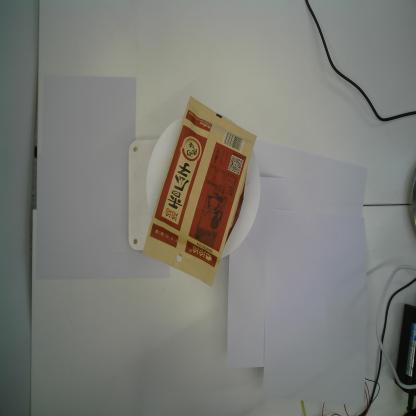Dried Food: (141, 95, 258, 289)
